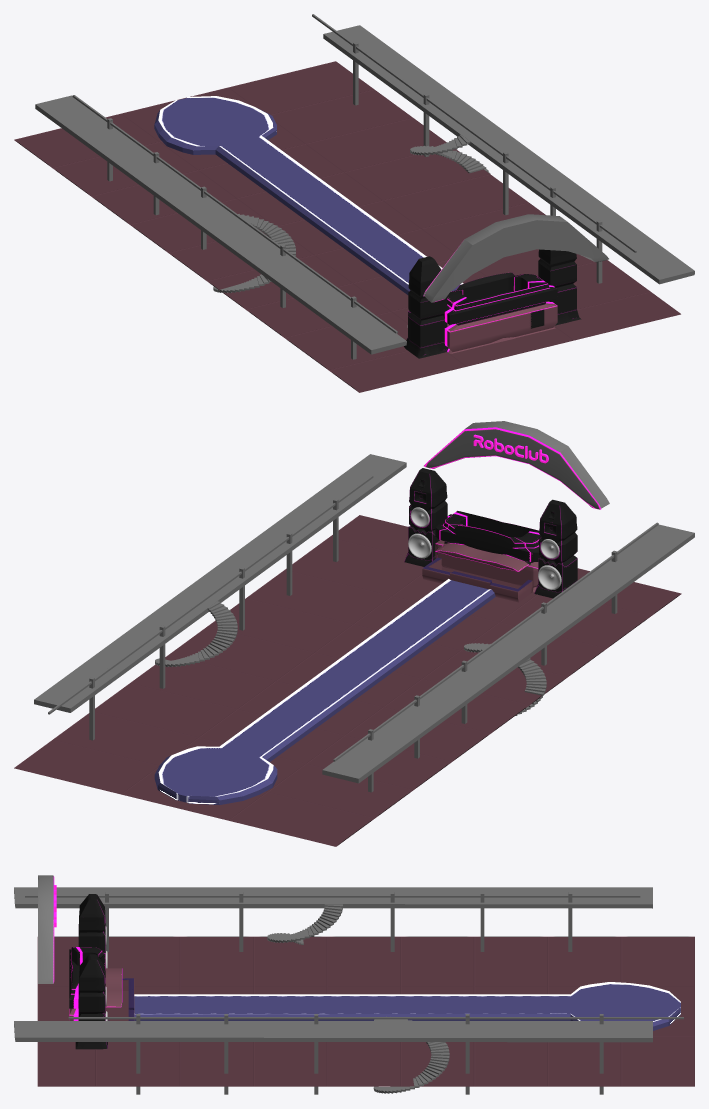
The model's file is klubiec2.fbx.
3 renders of one model, top to bottom at view 1: azimuth 30°, elevation 25°; view 2: azimuth 150°, elevation 25°; view 3: azimuth 270°, elevation 25°, orthographic. The views are drawn at different scales.
Parts seen in each view (by area): view 1: floor_Baked, dancingCubeRe_Baked, RampL.001_Baked.001, RampL.001_Baked.002, gamePadWall_Baked, dj_up_Baked, dj_down_Baked, RightSpeaker.001_Baked.001, RightSpeaker.001_Baked, filar.001_Baked, filar.001_Baked.001, stairs_Baked (+1 smaller); view 2: floor_Baked, dancingCubeRe_Baked, RampL.001_Baked.001, RampL.001_Baked.002, gamePadWall_Baked, dj_up_Baked, dj_down_Baked, RightSpeaker.001_Baked.001, RightSpeaker.001_Baked, stairs_Baked.002, barWall_Baked, filar.001_Baked.001 (+2 smaller); view 3: floor_Baked, dancingCubeRe_Baked, RampL.001_Baked.002, RampL.001_Baked.001, RightSpeaker.001_Baked, gamePadWall_Baked, filar.001_Baked.001, filar.001_Baked, RightSpeaker.001_Baked.001, stairs_Baked.002, stairs_Baked, dj_up_Baked (+2 smaller).
Part boxes in pixels (x1,y1,x2,y2): floor_Baked: (14,61,680,392); dancingCubeRe_Baked: (154,96,463,294); RampL.001_Baked.001: (35,95,406,354); RampL.001_Baked.002: (323,25,694,284); gamePadWall_Baked: (423,214,608,302); dj_up_Baked: (443,272,557,324); dj_down_Baked: (444,300,557,353); RightSpeaker.001_Baked.001: (404,256,448,358); RightSpeaker.001_Baked: (538,249,581,325); filar.001_Baked: (72,95,397,333); filar.001_Baked.001: (312,14,636,252); stairs_Baked: (213,214,295,293); floor_Baked: (14,515,681,846); dancingCubeRe_Baked: (154,579,495,804); RampL.001_Baked.001: (322,524,694,783); RampL.001_Baked.002: (34,454,406,712); gamePadWall_Baked: (424,421,609,509); dj_up_Baked: (435,510,540,561); dj_down_Baked: (435,540,538,592); RightSpeaker.001_Baked.001: (534,499,577,598); RightSpeaker.001_Baked: (404,468,447,566); stairs_Baked.002: (155,601,237,667); barWall_Baked: (422,557,533,602); filar.001_Baked.001: (48,475,373,714); floor_Baked: (37,936,694,1086); dancingCubeRe_Baked: (134,982,680,1030); RampL.001_Baked.002: (14,1021,652,1042); RampL.001_Baked.001: (14,887,652,908); RightSpeaker.001_Baked: (75,954,107,1049); gamePadWall_Baked: (38,875,54,983); filar.001_Baked.001: (68,1017,683,1019); filar.001_Baked: (25,895,640,897); RightSpeaker.001_Baked.001: (78,894,105,952); stairs_Baked.002: (373,1016,449,1093); stairs_Baked: (267,904,342,944); dj_up_Baked: (69,947,105,1008).
Size of the model in its own units: 8408 by 3735 by 16020.
